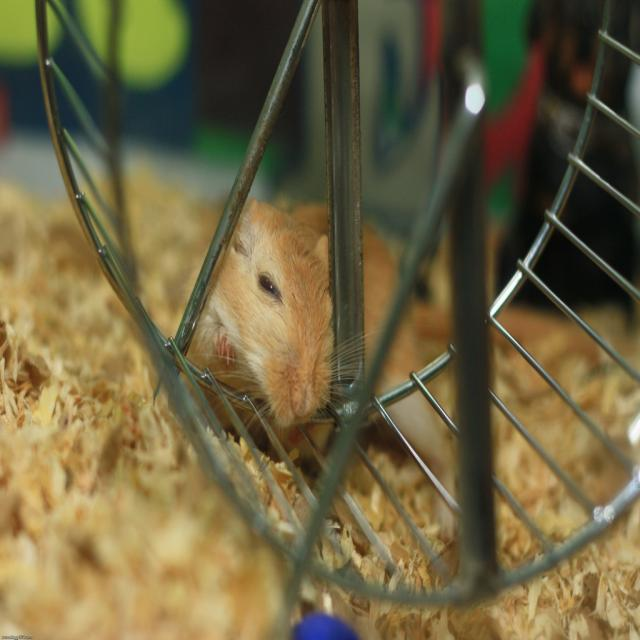rat: (188, 206, 451, 542)
